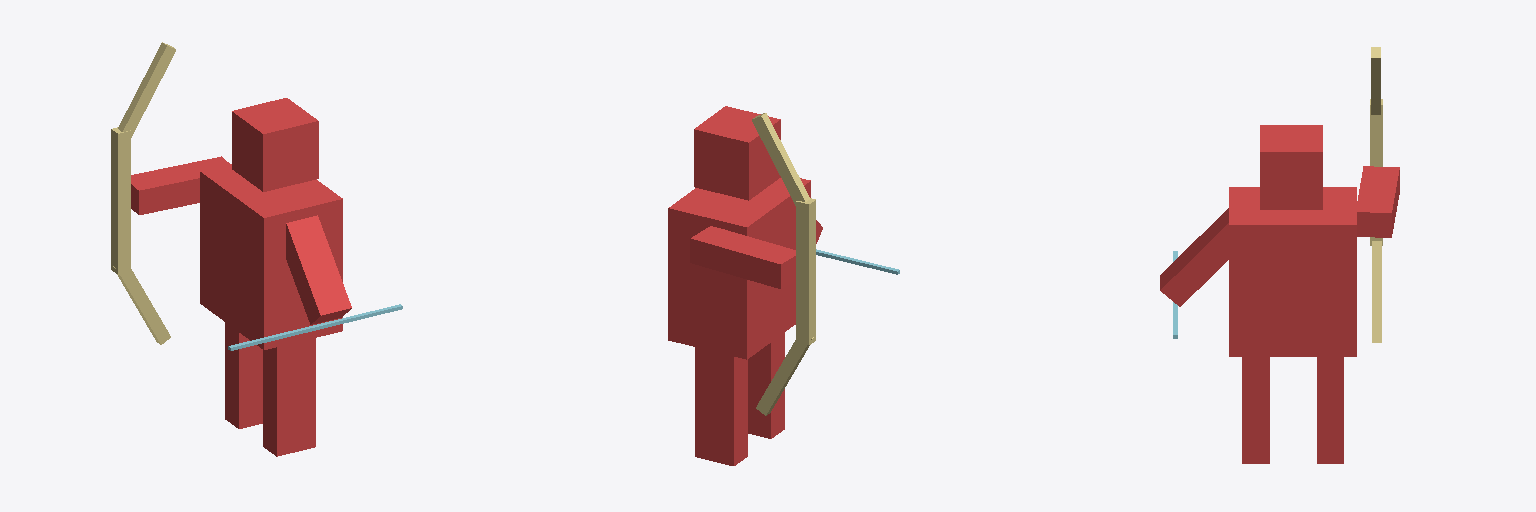
File: BA_Archer_01.obj
3 renders of one model, left to right at view 1: azimuth 30°, elevation 25°; view 2: azimuth 150°, elevation 25°; view 3: azimuth 270°, elevation 25°, orthographic.
Parts seen in each view (by area): view 1: Box001, Box008, Box009; view 2: Box001, Box008; view 3: Box001, Box008.
Part boxes in pixels (bbox=[...]): Box001: bbox=[131, 98, 351, 456]; Box008: bbox=[111, 42, 175, 344]; Box009: bbox=[228, 304, 402, 350]; Box001: bbox=[668, 106, 822, 465]; Box008: bbox=[752, 113, 815, 415]; Box001: bbox=[1160, 125, 1399, 463]; Box008: bbox=[1370, 47, 1382, 342].
Size of the model in its own units: 118 by 227 by 131.